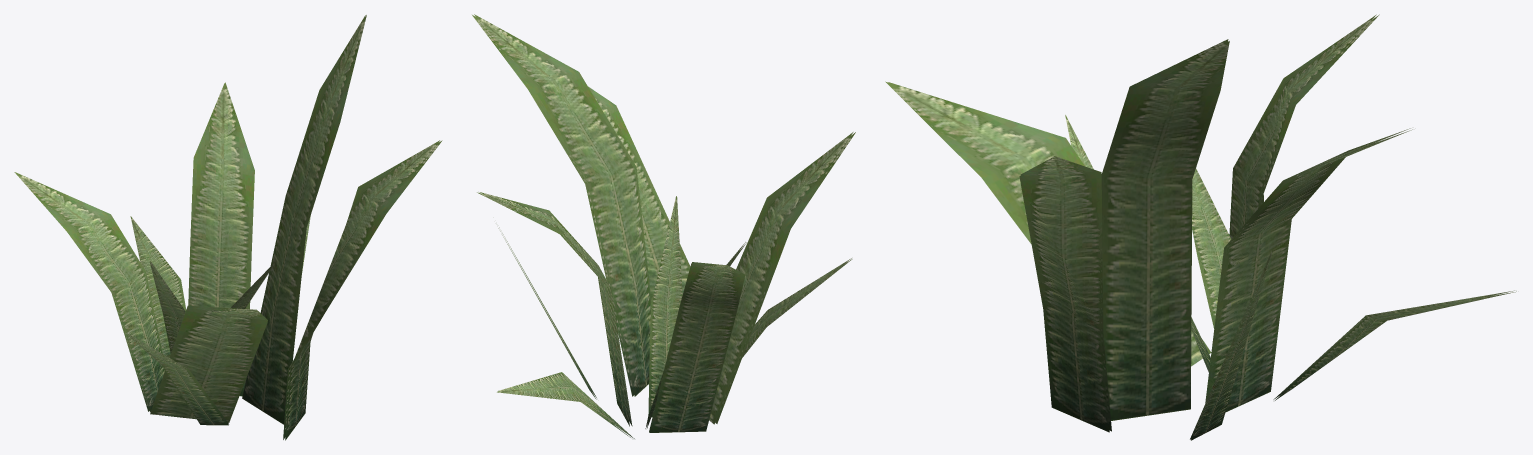
Rendered from frst_fern_green_longleaf_sm_l1.fbx.
The picture shows the model from 3 angles, left to right: view 1: azimuth 30°, elevation 25°; view 2: azimuth 150°, elevation 25°; view 3: azimuth 270°, elevation 25°; orthographic projection. The views are drawn at different scales.
Visible parts, largest first — view 1: mesh_node; view 2: mesh_node; view 3: mesh_node.
Part boxes in pixels (x1,y1,x2,y2): mesh_node: [14, 15, 442, 440]; mesh_node: [472, 14, 855, 438]; mesh_node: [885, 14, 1516, 440].
Size of the model in its own units: 2.29 by 2.41 by 2.97.
